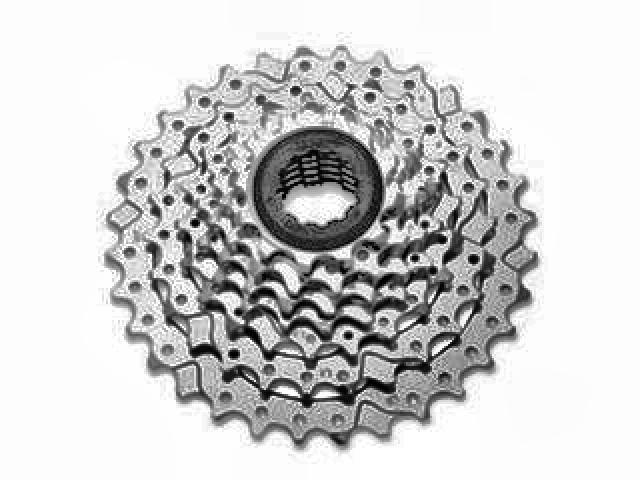cassette: (106, 40, 540, 450)
